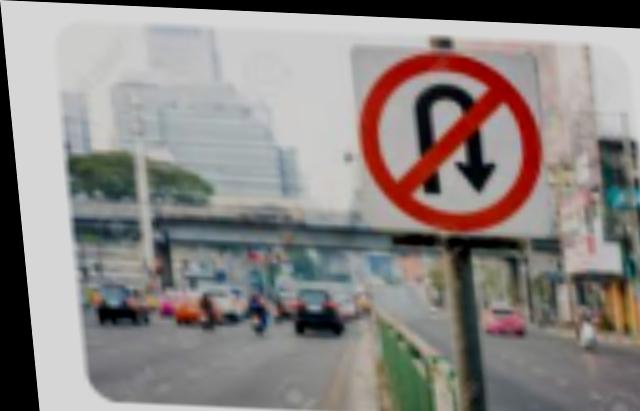not_u_turn_right: (351, 53, 538, 230)
